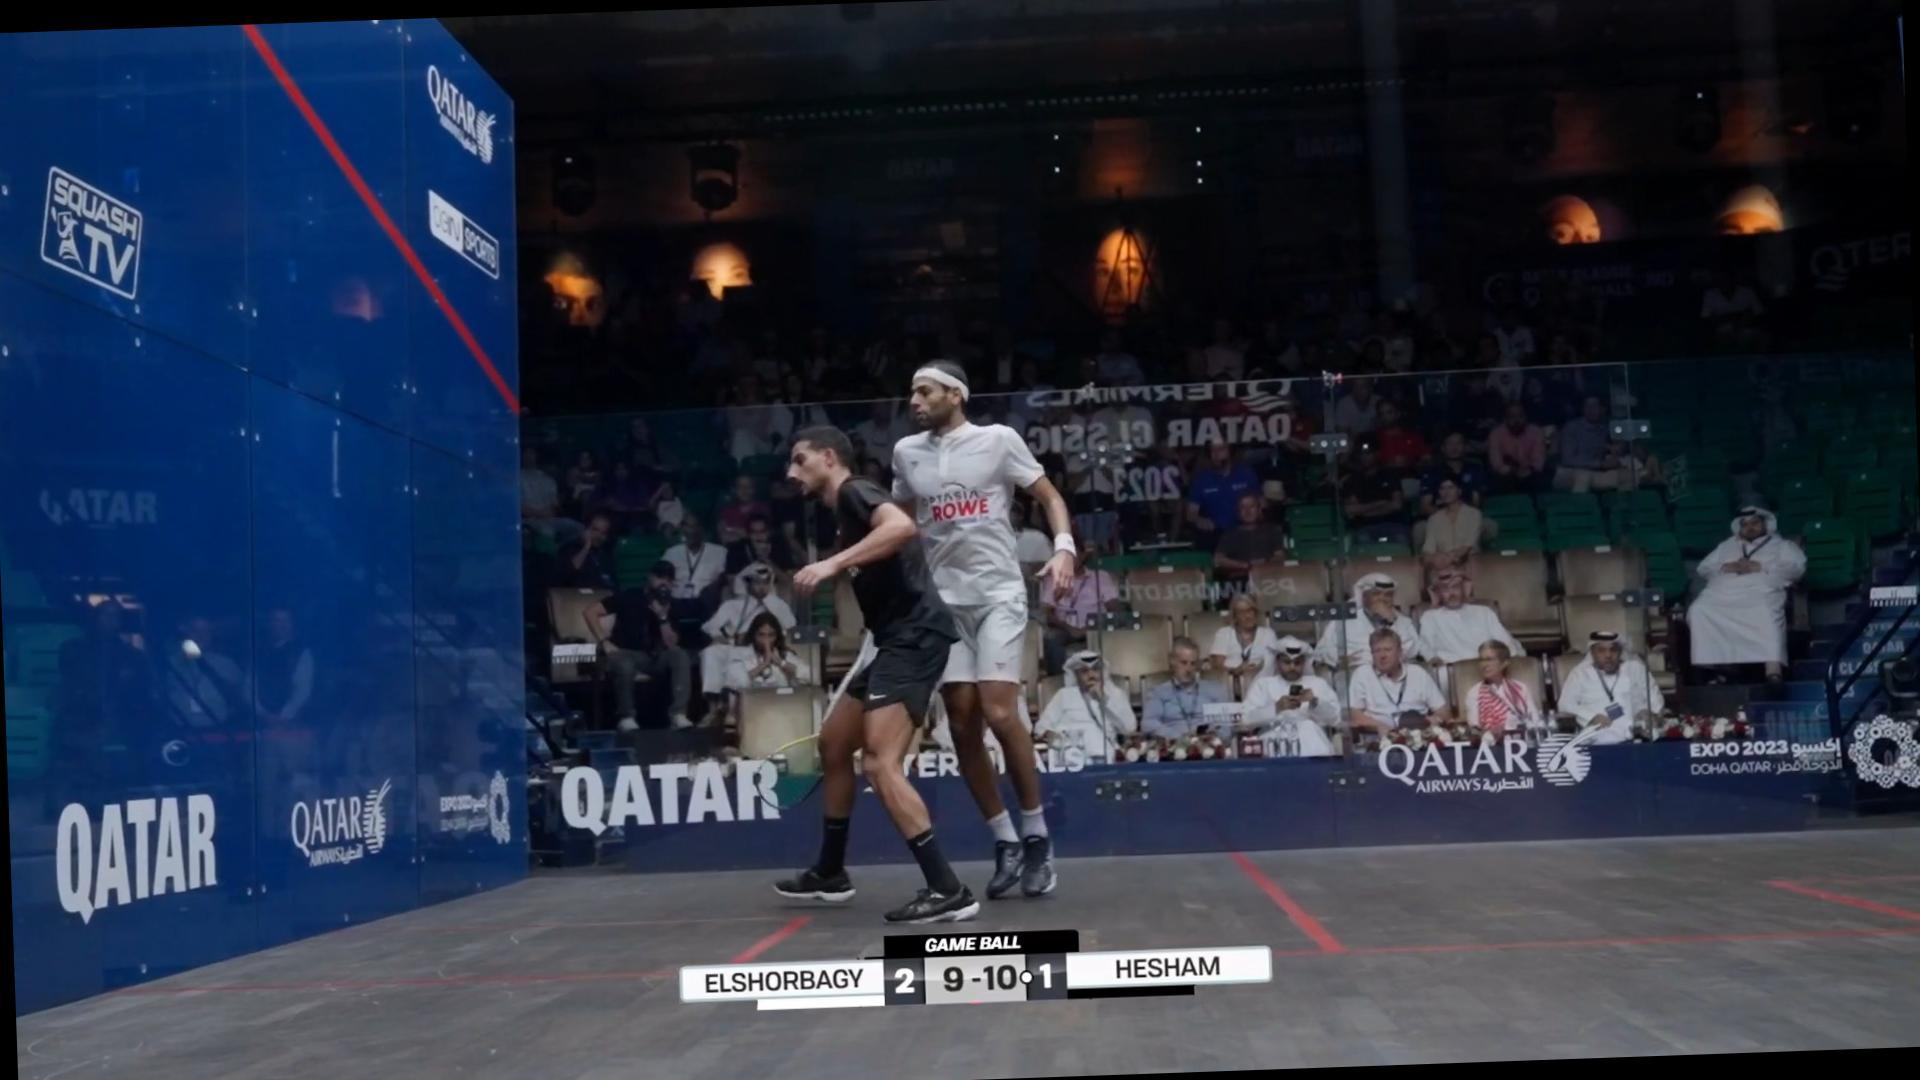Squash-Ball: (175, 622, 211, 676)
